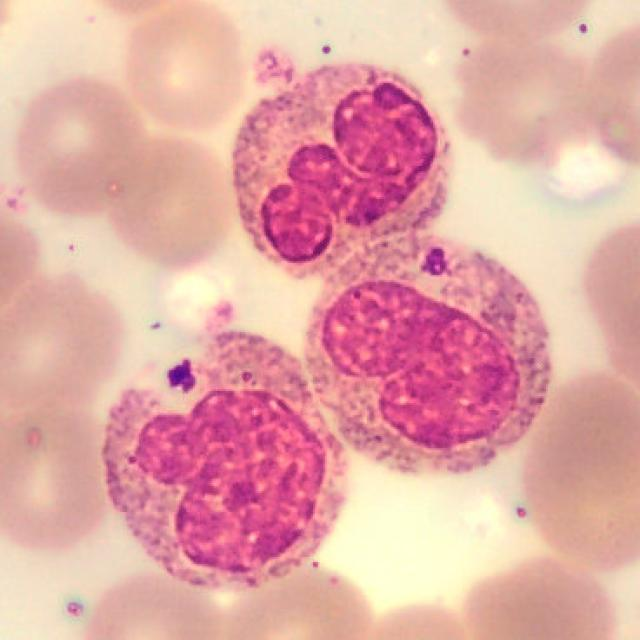Bastonete: (233, 66, 450, 275)
Metamielocito: (103, 332, 348, 592), (304, 230, 551, 477)
